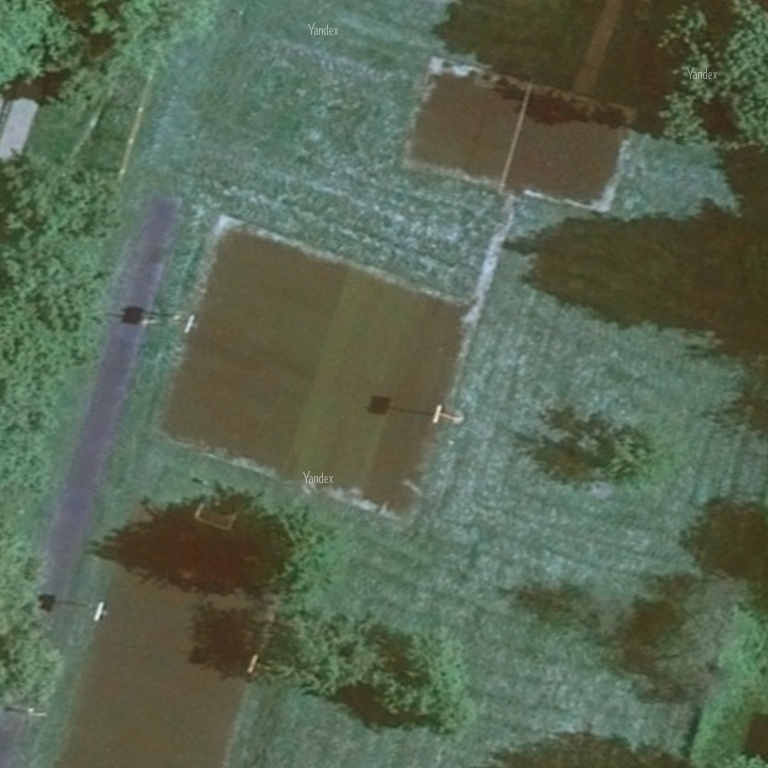basket_court: (126, 198, 506, 541)
